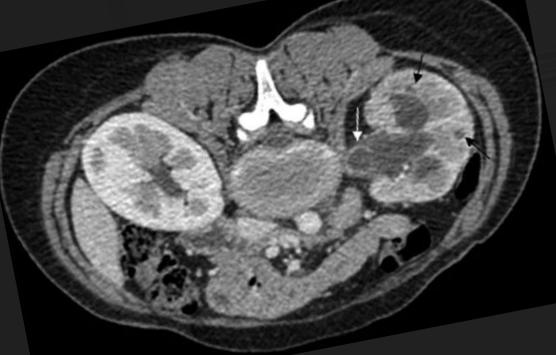anomaly: (344, 148, 381, 176)
